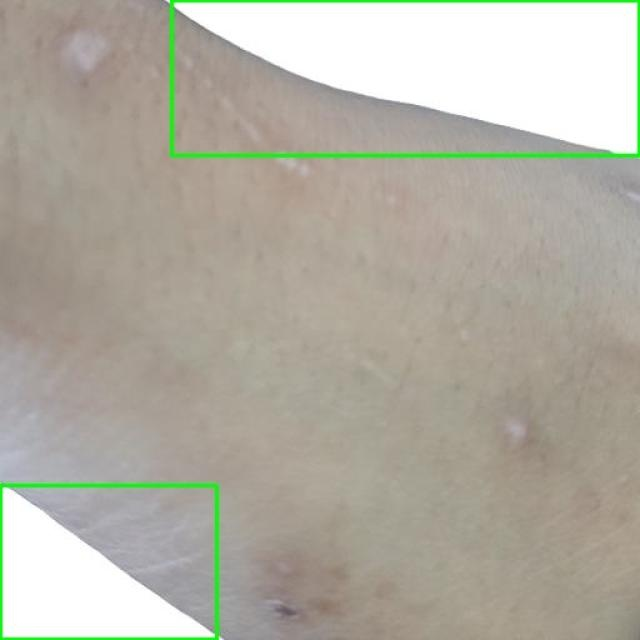Scabies: (171, 0, 639, 155), (0, 485, 218, 639)
